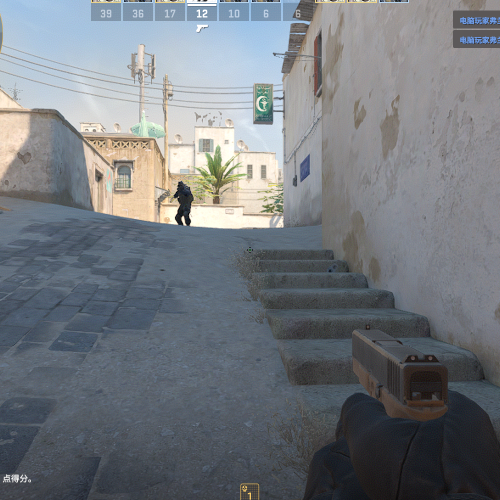ct_body: (174, 181, 193, 228)
ct_head: (178, 181, 185, 190)
